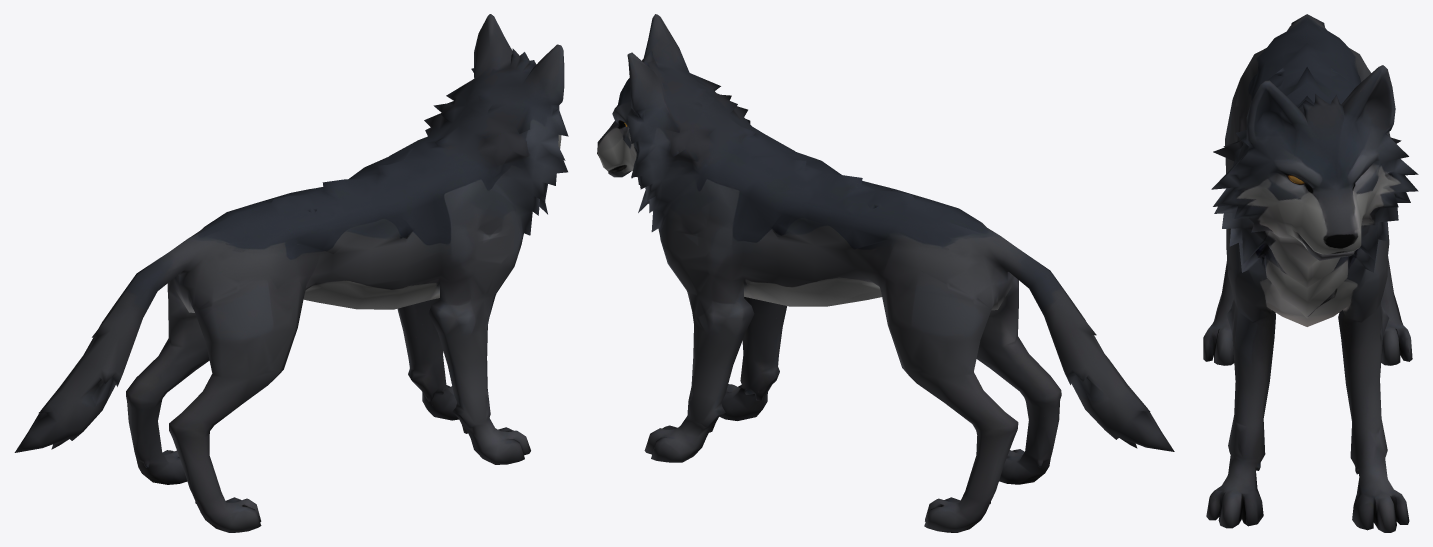
Rendered from enc-hunt.glb.
3 views of the same model, side by side, from view 1: azimuth 30°, elevation 25°; view 2: azimuth 150°, elevation 25°; view 3: azimuth 270°, elevation 25° (orthographic). The views are drawn at different scales.
Visible parts, largest first — view 1: tripo_node_e5ffb7dd-6b1f-48f9-9c64-d44299f7c6ed; view 2: tripo_node_e5ffb7dd-6b1f-48f9-9c64-d44299f7c6ed; view 3: tripo_node_e5ffb7dd-6b1f-48f9-9c64-d44299f7c6ed.
Part boxes in pixels (x1=…): tripo_node_e5ffb7dd-6b1f-48f9-9c64-d44299f7c6ed: x1=14, y1=14, x2=568, y2=532; tripo_node_e5ffb7dd-6b1f-48f9-9c64-d44299f7c6ed: x1=597, y1=14, x2=1174, y2=532; tripo_node_e5ffb7dd-6b1f-48f9-9c64-d44299f7c6ed: x1=1203, y1=14, x2=1418, y2=532.
Size of the model in its own units: 0.998 by 0.666 by 0.2715.
Materials: 1 (1 with a texture image).
